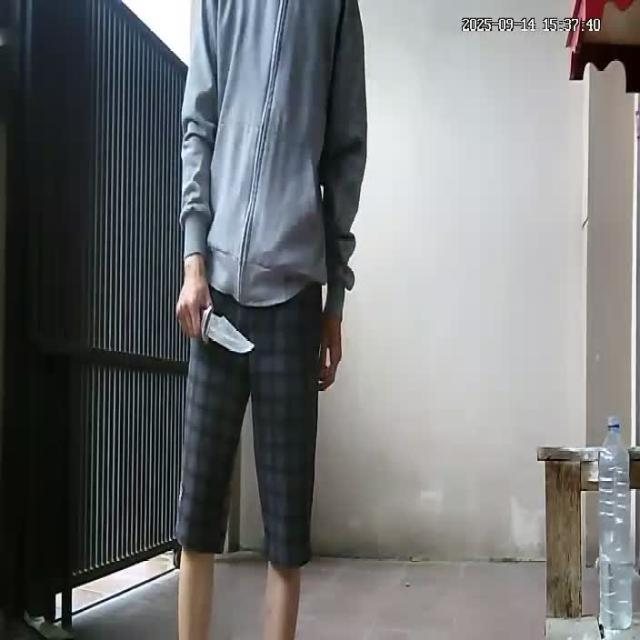senjata_tajam: (199, 304, 260, 356)
